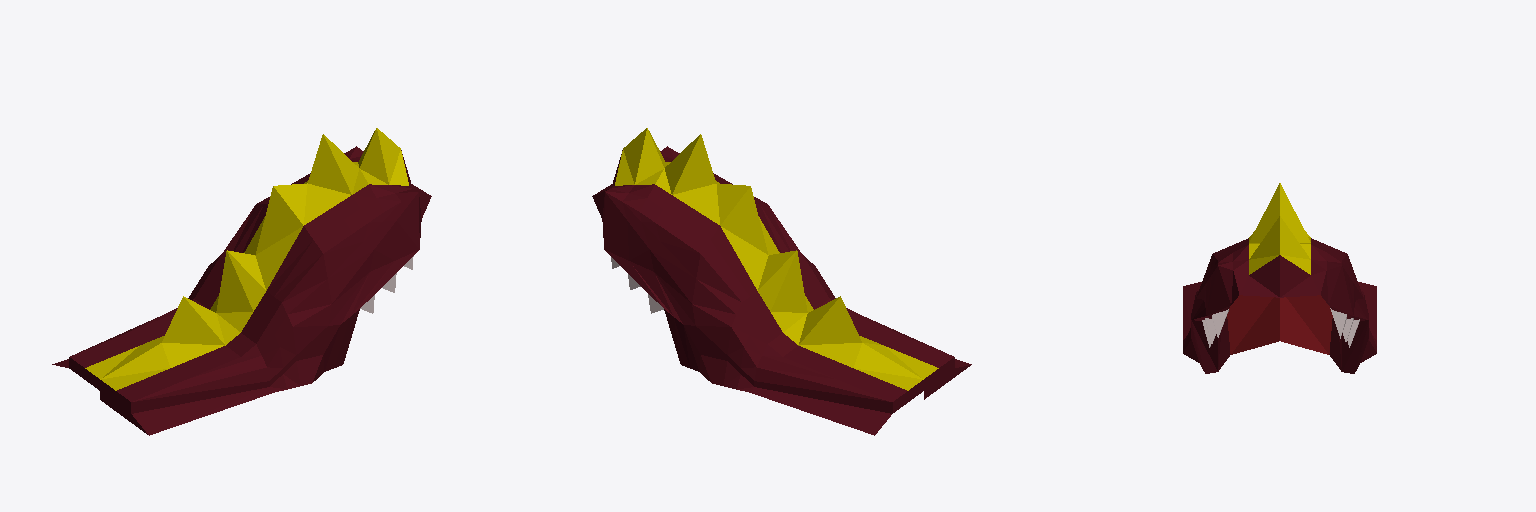
3 views of the same model, side by side, from view 1: azimuth 30°, elevation 25°; view 2: azimuth 150°, elevation 25°; view 3: azimuth 270°, elevation 25° (orthographic).
Visible parts, largest first — view 1: ue_立方体.011; view 2: ue_立方体.011; view 3: ue_立方体.011.
Part boxes in pixels (left/top/right/bottom): ue_立方体.011: left=52, top=128, right=431, bottom=435; ue_立方体.011: left=592, top=128, right=971, bottom=435; ue_立方体.011: left=1183, top=183, right=1376, bottom=373.
Bounding box in the file's own units: 5.78 × 3.77 × 3.13.
Materials: 1 (1 with a texture image).